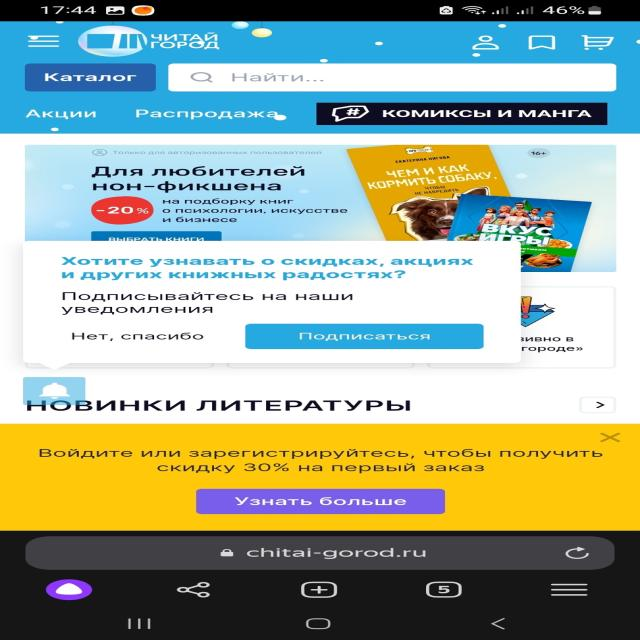button: (248, 324, 483, 350), (198, 490, 446, 514), (66, 325, 215, 349), (599, 430, 626, 444)
site: (2, 425, 640, 528), (22, 241, 518, 364)
